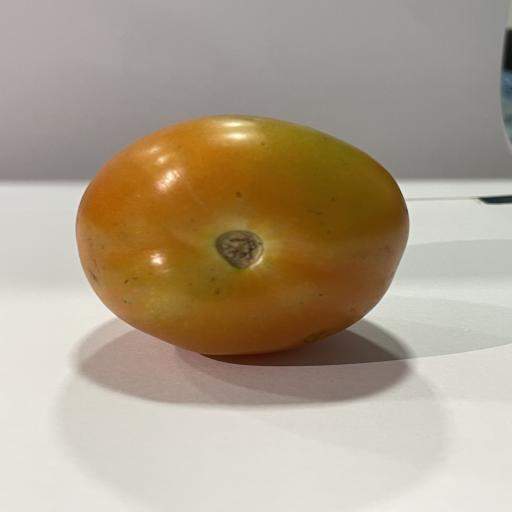unripe: (77, 115, 409, 354)
